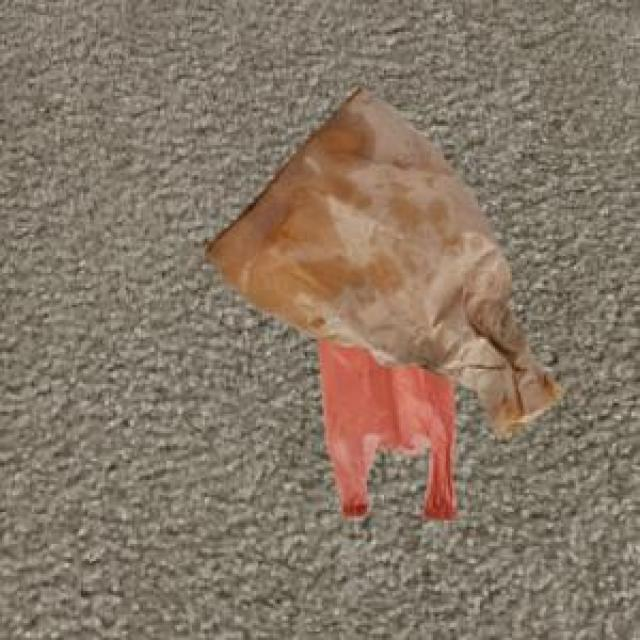paper: (196, 81, 561, 435)
